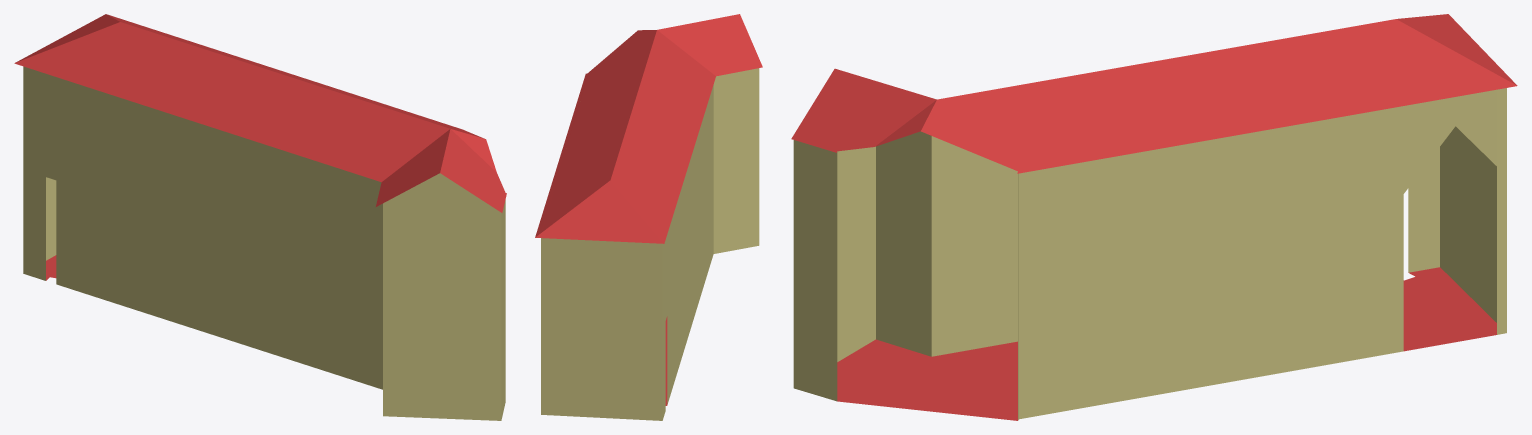
3 renders of one model, left to right at view 1: azimuth 30°, elevation 25°; view 2: azimuth 150°, elevation 25°; view 3: azimuth 270°, elevation 25°, orthographic. The views are drawn at different scales.
Size of the model in its own units: 24.65 by 47.81 by 21.35.
